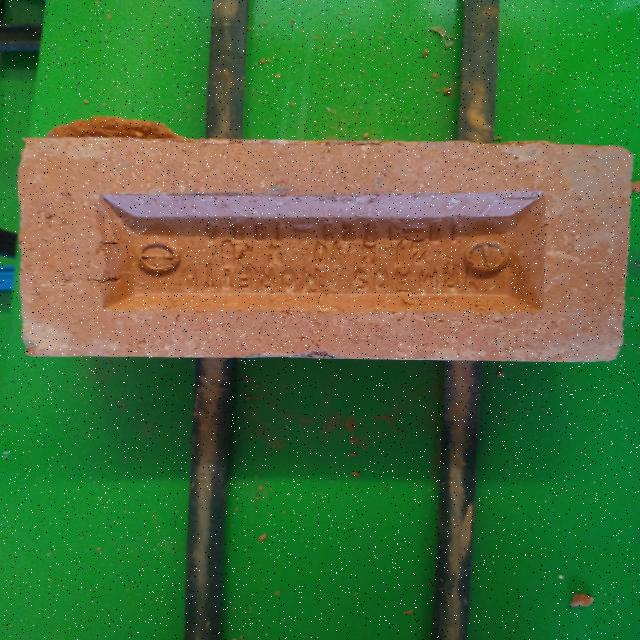bricks_ruin: (22, 118, 635, 362)
